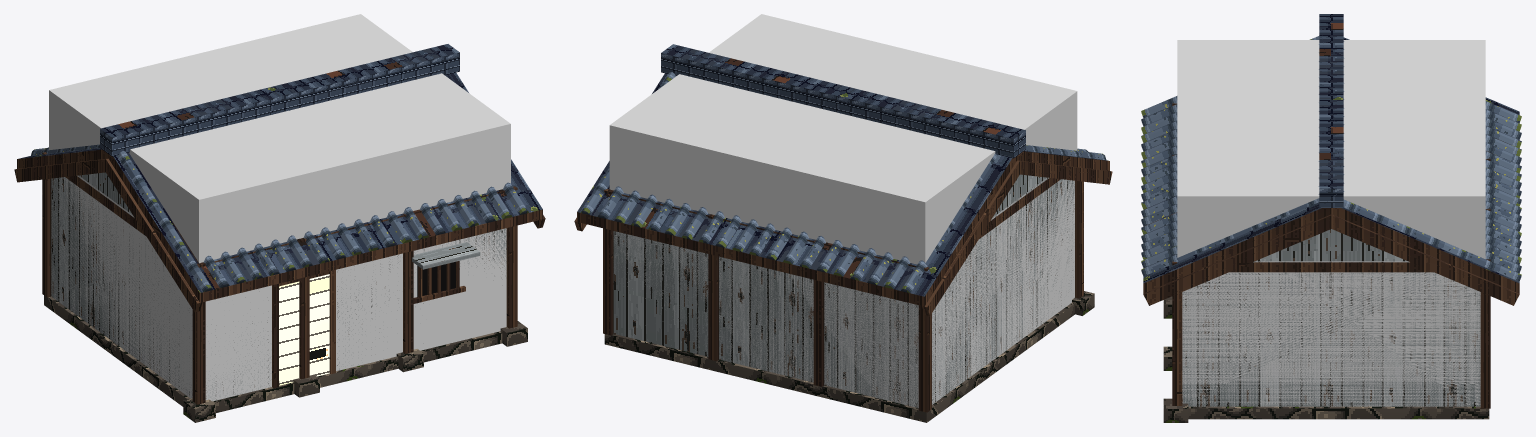
File: JP_Poor_House_A.glb
3 renders of one model, left to right at view 1: azimuth 30°, elevation 25°; view 2: azimuth 150°, elevation 25°; view 3: azimuth 270°, elevation 25°, orthographic. The views are drawn at different scales.
Visible parts, largest first — view 1: COL_JP_Poor_House_A, JP_Poor_House_A; view 2: COL_JP_Poor_House_A, JP_Poor_House_A; view 3: COL_JP_Poor_House_A, JP_Poor_House_A.
Part boxes in pixels (bbox=[...]): COL_JP_Poor_House_A: bbox=[49, 14, 510, 401]; JP_Poor_House_A: bbox=[14, 44, 545, 422]; COL_JP_Poor_House_A: bbox=[609, 14, 1077, 407]; JP_Poor_House_A: bbox=[574, 44, 1112, 422]; COL_JP_Poor_House_A: bbox=[1177, 40, 1485, 406]; JP_Poor_House_A: bbox=[1141, 14, 1521, 422].
Size of the model in its own units: 6.7 by 4.27 by 6.18.
Materials: 9 (9 with a texture image).
